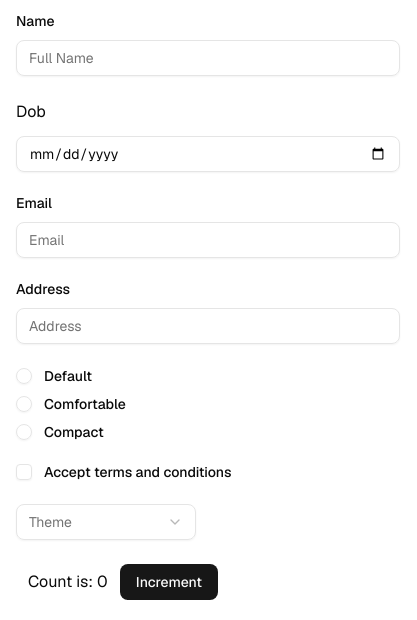
Test case: Name textbox › button should
expect the text "Count is: 0" is shown: met, box [28,571,108,592]
Click the button "Increment". click: (169, 582)
box: [120,564,218,600]
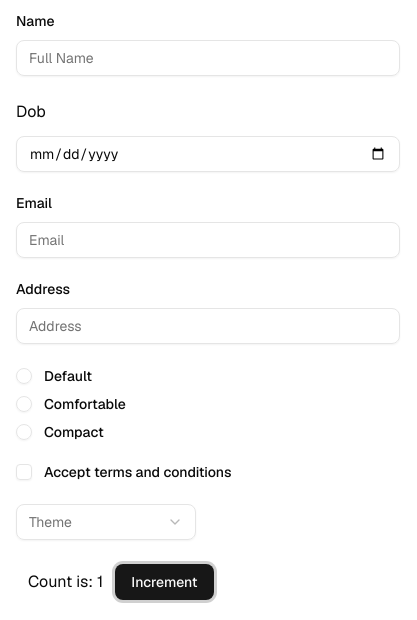
expect the text "Count is: 1" is shown: met, box [28,571,103,592]
